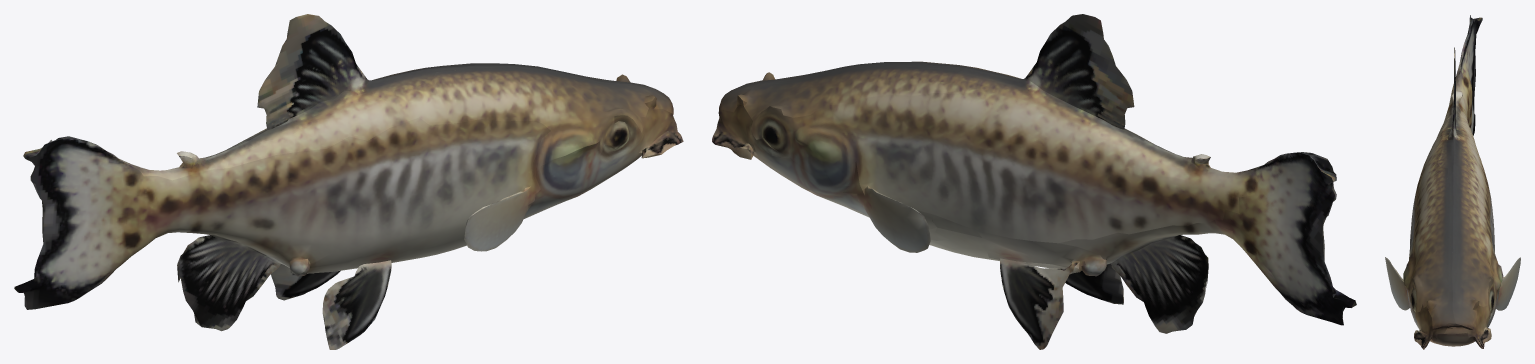
Rendered from peppered-cory.glb.
The picture shows the model from 3 angles, left to right: view 1: azimuth 30°, elevation 25°; view 2: azimuth 150°, elevation 25°; view 3: azimuth 270°, elevation 25°; orthographic projection. The views are drawn at different scales.
Visible parts, largest first — view 1: geometry_0; view 2: geometry_0; view 3: geometry_0.
Boxes of the visible parts, x1,y1,x2,y2 form: geometry_0: [14, 14, 683, 349]; geometry_0: [712, 14, 1356, 349]; geometry_0: [1385, 15, 1520, 349].
Bounding box in the file's own units: 1 × 0.4679 × 0.2311.
Materials: 1 (1 with a texture image).
